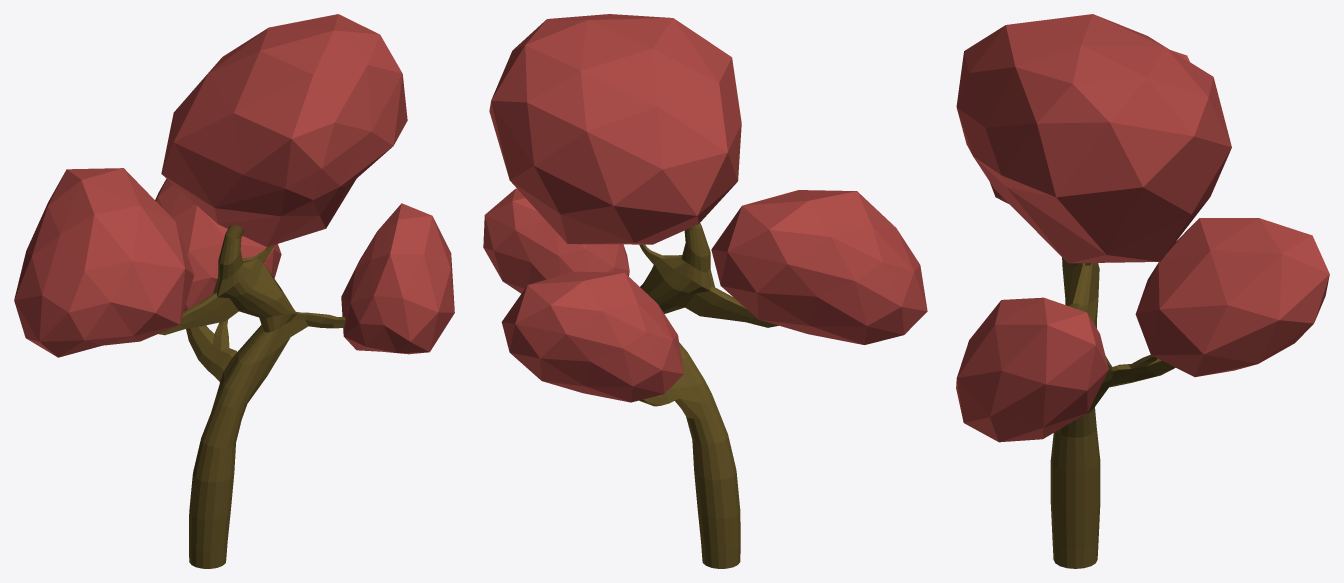
The model's file is redAutumnTree.fbx.
3 renders of one model, left to right at view 1: azimuth 30°, elevation 25°; view 2: azimuth 150°, elevation 25°; view 3: azimuth 270°, elevation 25°, orthographic. The views are drawn at different scales.
Visible parts, largest first — view 1: leaves.002, leaves.003, trunk, leaves.001, leaves; view 2: leaves.002, leaves.003, leaves, trunk, leaves.001; view 3: leaves.002, leaves, leaves.001, trunk.
Part boxes in pixels (x1,y1,x2,y2): leaves.002: (161, 14, 407, 246); leaves.003: (14, 168, 194, 357); trunk: (158, 225, 345, 568); leaves.001: (341, 203, 454, 354); leaves: (155, 178, 281, 311); leaves.002: (489, 14, 741, 244); leaves.003: (711, 190, 927, 344); leaves: (501, 271, 683, 402); trunk: (639, 223, 778, 568); leaves.001: (483, 188, 629, 293); leaves.002: (956, 14, 1231, 263); leaves: (1135, 218, 1329, 376); leaves.001: (956, 297, 1108, 442); trunk: (1050, 257, 1175, 568).
Size of the model in its own units: 453 by 518 by 298.
